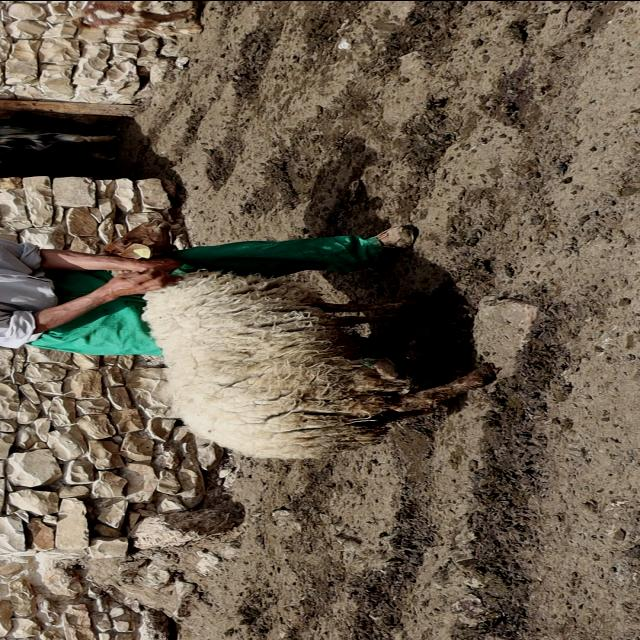Score_4: (143, 269, 488, 458)
